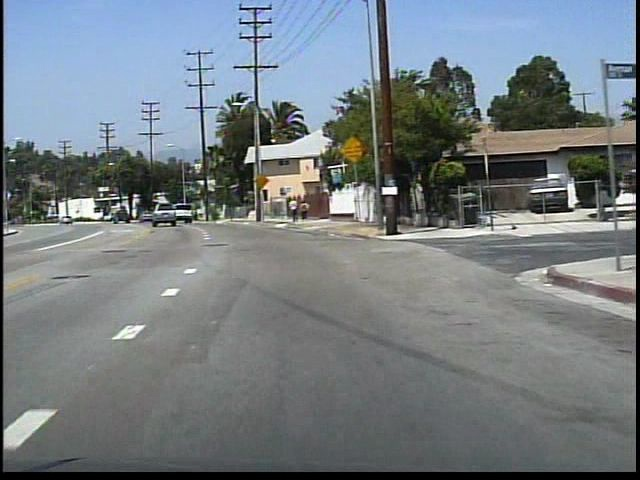person: (288, 196, 300, 224), (299, 198, 310, 223)
